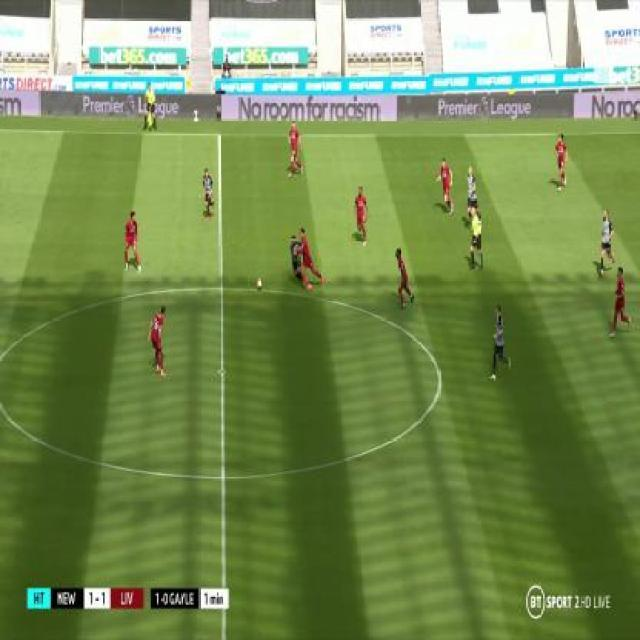ball: (255, 277, 263, 291)
player: (595, 205, 620, 282), (489, 304, 511, 386), (608, 268, 631, 344), (147, 306, 170, 379), (298, 227, 324, 290), (394, 245, 413, 316), (282, 119, 304, 179), (122, 209, 142, 274), (465, 208, 484, 274), (352, 186, 371, 249), (551, 133, 570, 193), (464, 165, 481, 230), (140, 83, 159, 132), (288, 233, 304, 289), (200, 168, 216, 222)
